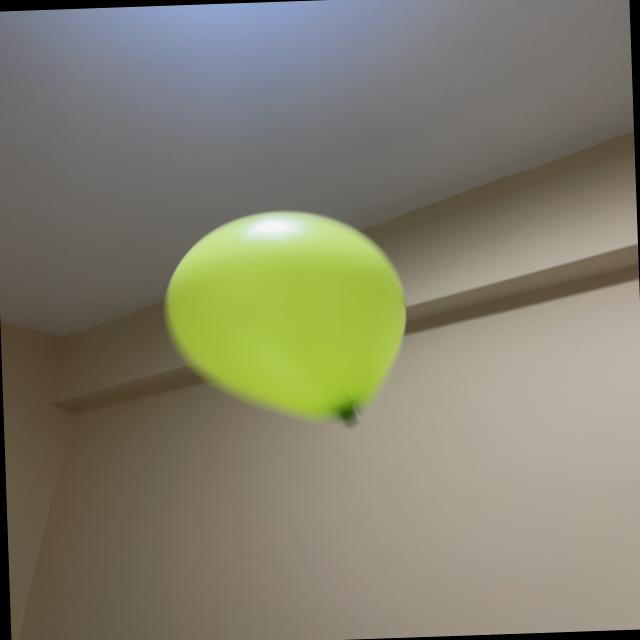balloon: (164, 211, 405, 422)
